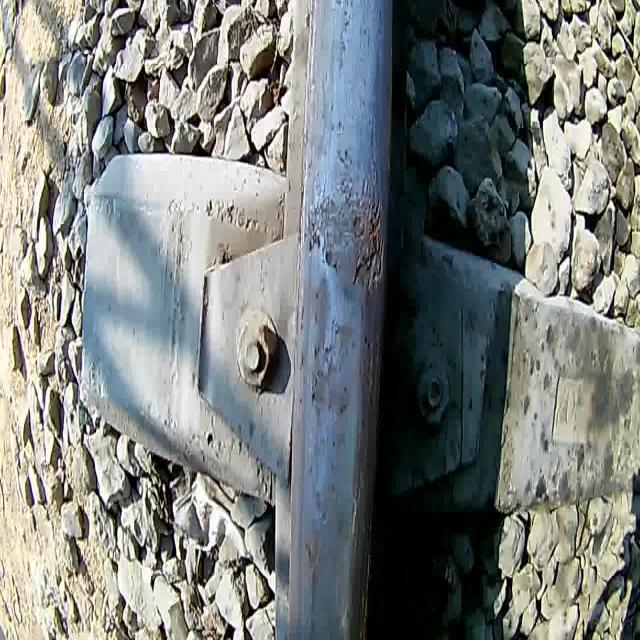Spallings: (349, 190, 385, 296)
Squats: (303, 145, 386, 307), (305, 270, 356, 431), (297, 524, 327, 604)
